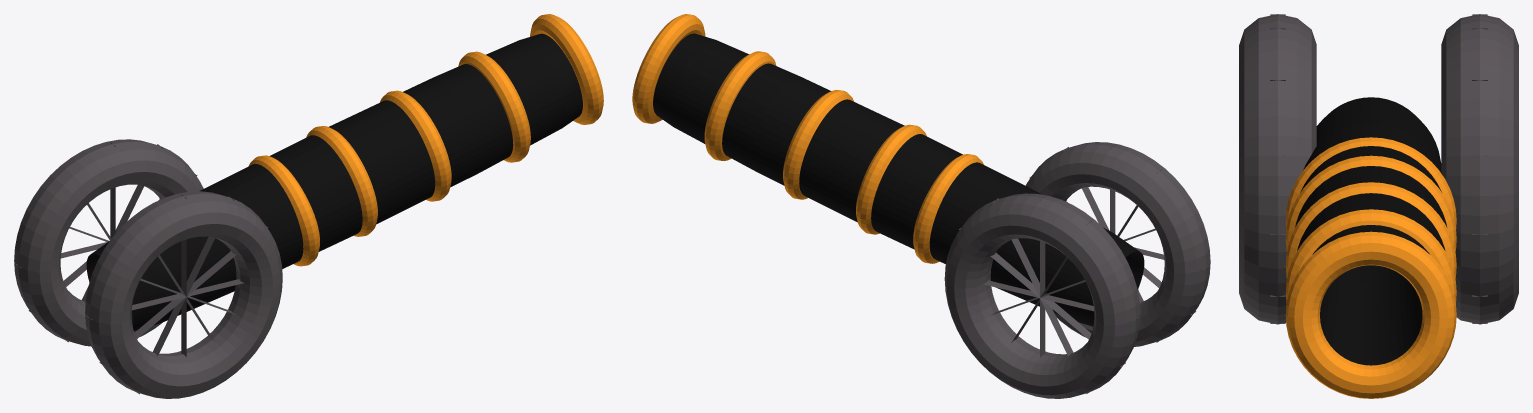
The model's file is Narancs agyu.glb.
3 views of the same model, side by side, from view 1: azimuth 30°, elevation 25°; view 2: azimuth 150°, elevation 25°; view 3: azimuth 270°, elevation 25° (orthographic). The views are drawn at different scales.
Parts seen in each view (by area): view 1: Torus.006; view 2: Torus.006; view 3: Torus.006.
Boxes of the visible parts, x1=… form: Torus.006: x1=14, y1=14, x2=603, y2=398; Torus.006: x1=632, y1=14, x2=1210, y2=398; Torus.006: x1=1239, y1=14, x2=1518, y2=398.
Size of the model in its own units: 3.82 by 1.74 by 1.23.
